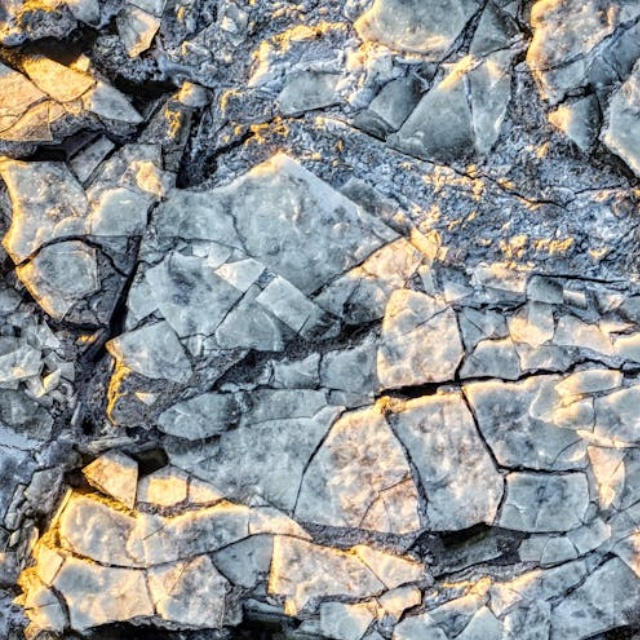细微裂纹: (0, 510, 392, 592), (303, 345, 640, 412)
